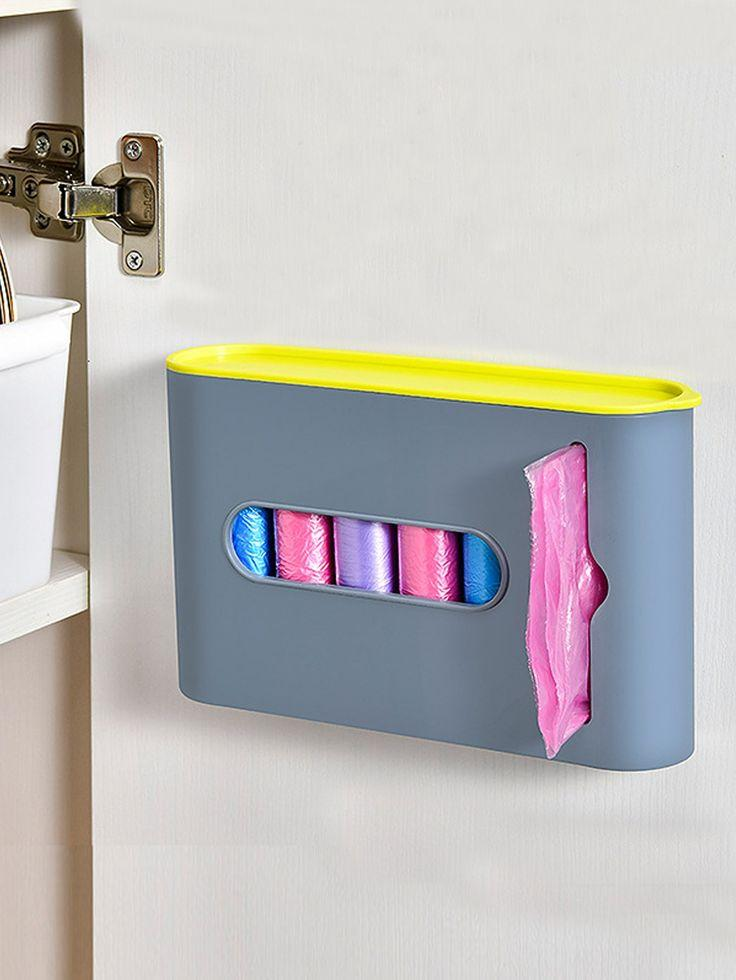HDPE: (164, 340, 697, 771)
LDPE: (518, 440, 609, 764)
